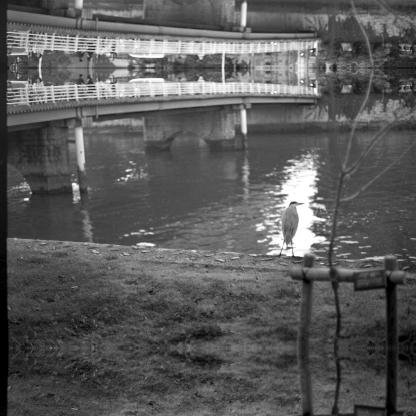Bird: (286, 199, 310, 254)
